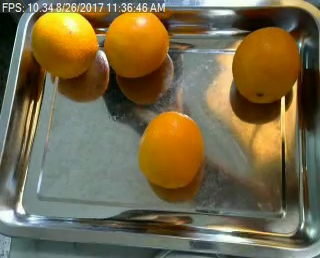Orange: (232, 25, 302, 103), (138, 110, 203, 188), (31, 9, 98, 79), (103, 9, 169, 77)
